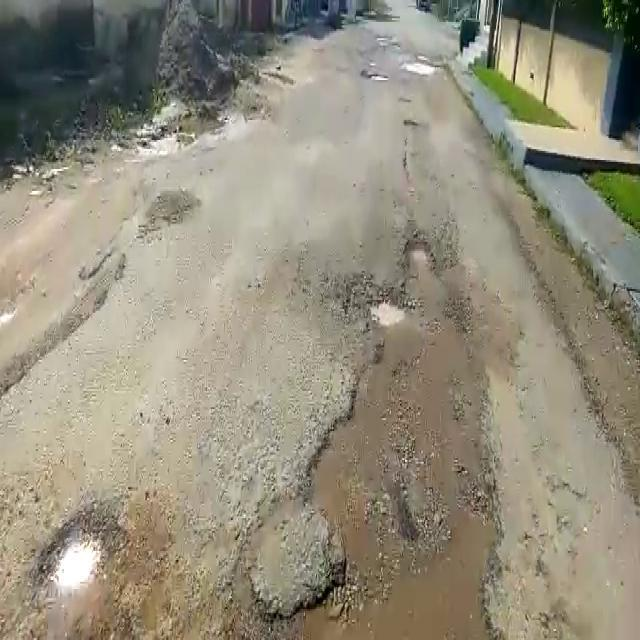pothole: (28, 502, 124, 608), (355, 280, 408, 335), (400, 233, 435, 272)
